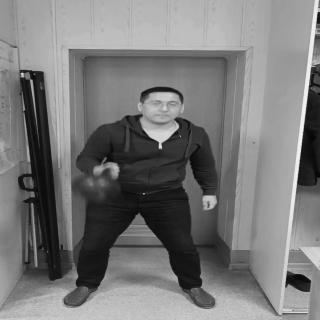kettlebell: (78, 166, 124, 202)
